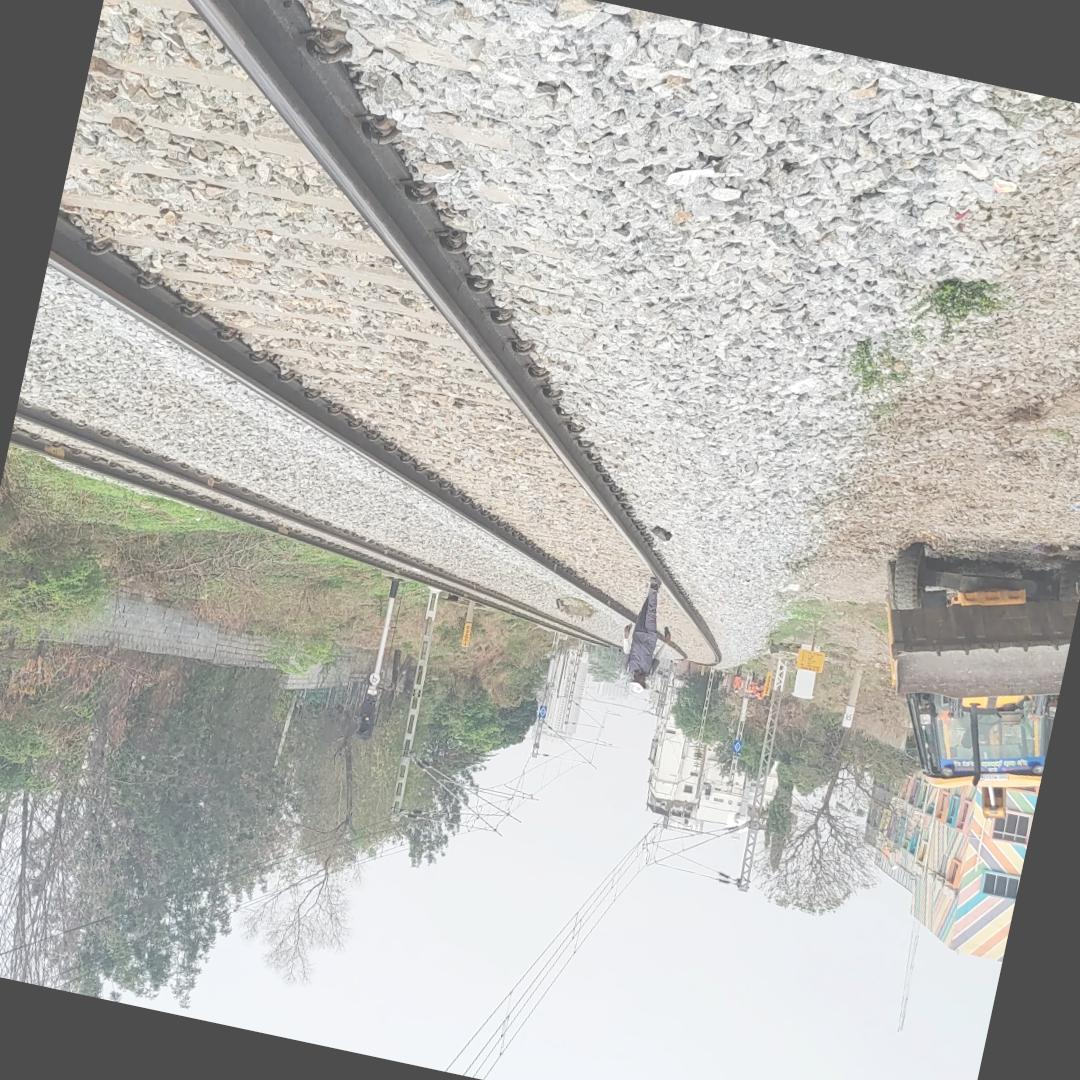standing: (599, 546, 699, 711)
track: (42, 0, 738, 675)
